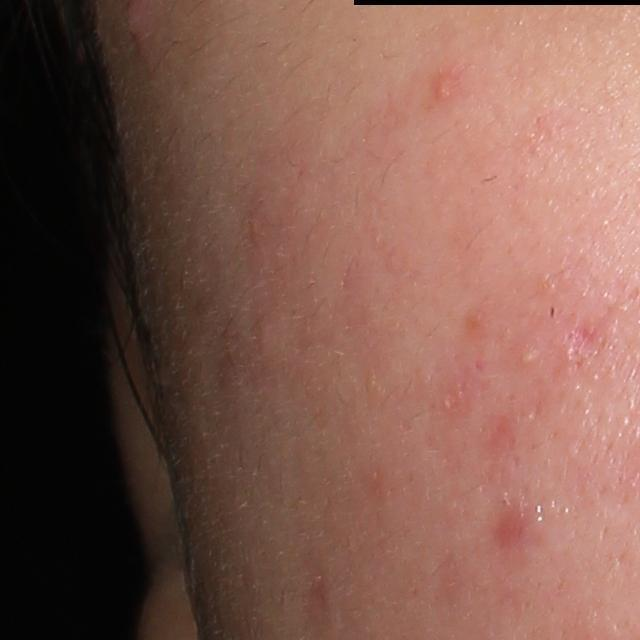papule: (488, 504, 534, 551), (430, 72, 453, 104)
